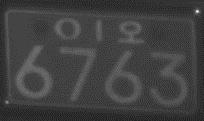0: (53, 16, 82, 40)
1: (87, 19, 110, 42)
3: (148, 51, 189, 108)
6: (103, 48, 142, 105), (14, 43, 52, 100)
7: (58, 45, 99, 102)
오: (115, 19, 145, 44)
